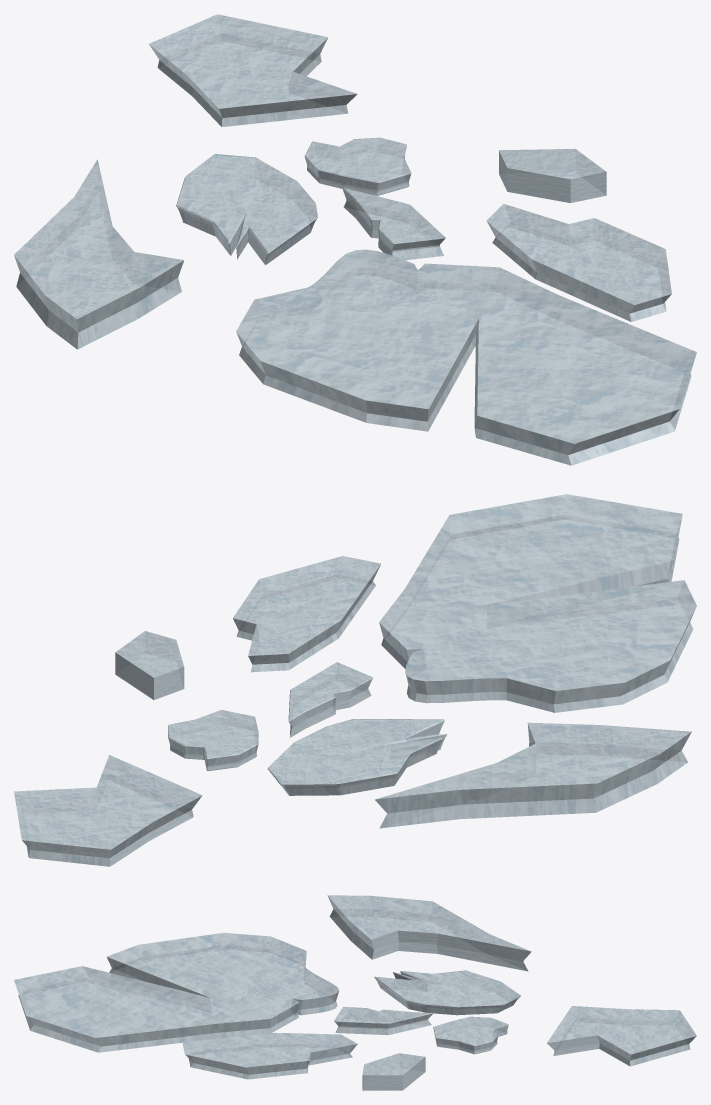
File: isplater_floes.FBX
3 renders of one model, top to bottom at view 1: azimuth 30°, elevation 25°; view 2: azimuth 150°, elevation 25°; view 3: azimuth 270°, elevation 25°, orthographic. The views are drawn at different scales.
Visible parts, largest first — view 1: Line004, Line006, Line008, Line005, Line002, Line007, Line001, Line003; view 2: Line004, Line006, Line008, Line005, Line002, Line001, Line003, Line007; view 3: Line004, Line006, Line008, Line005, Line002, Line003, Line001, Line007.
Part boxes in pixels (<box>): Line004: <box>236,249,696,465</box>; Line006: <box>14,159,184,349</box>; Line008: <box>149,14,357,126</box>; Line005: <box>486,203,671,321</box>; Line002: <box>176,154,317,265</box>; Line007: <box>499,148,606,202</box>; Line001: <box>304,137,411,195</box>; Line003: <box>342,187,445,260</box>; Line004: <box>379,494,696,712</box>; Line006: <box>375,722,691,828</box>; Line008: <box>14,755,202,866</box>; Line005: <box>233,556,380,672</box>; Line002: <box>267,719,447,795</box>; Line001: <box>168,710,258,770</box>; Line003: <box>288,662,372,737</box>; Line007: <box>115,631,184,699</box>; Line004: <box>14,932,339,1052</box>; Line006: <box>327,895,531,971</box>; Line008: <box>547,1006,696,1066</box>; Line005: <box>182,1032,357,1079</box>; Line002: <box>374,970,520,1015</box>; Line003: <box>334,1006,432,1035</box>; Line001: <box>433,1016,508,1054</box>; Line007: <box>362,1053,425,1090</box>.
Bounding box in the file's own units: 377 × 20.75 × 623.
1 material, 1 textured.
